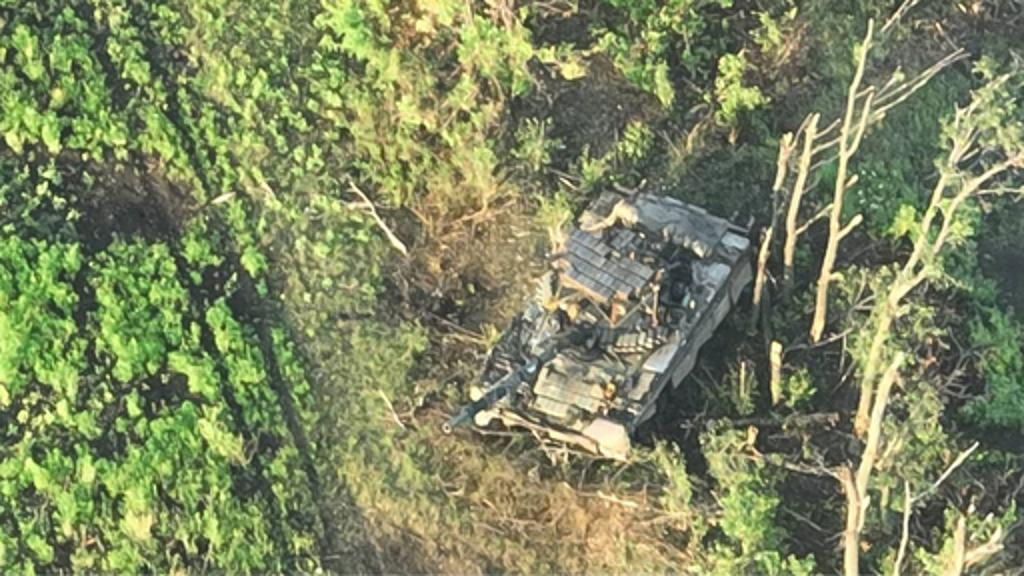TANK: (432, 170, 762, 462)
